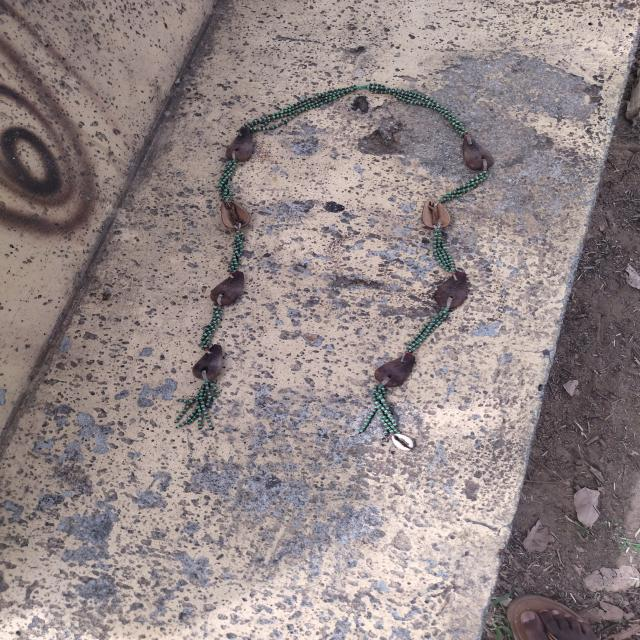facedown: (446, 133, 522, 179), (426, 264, 482, 319), (364, 345, 426, 393), (184, 342, 242, 391), (203, 266, 260, 314), (220, 119, 262, 165)
faceup: (209, 194, 260, 236), (419, 196, 460, 236)
